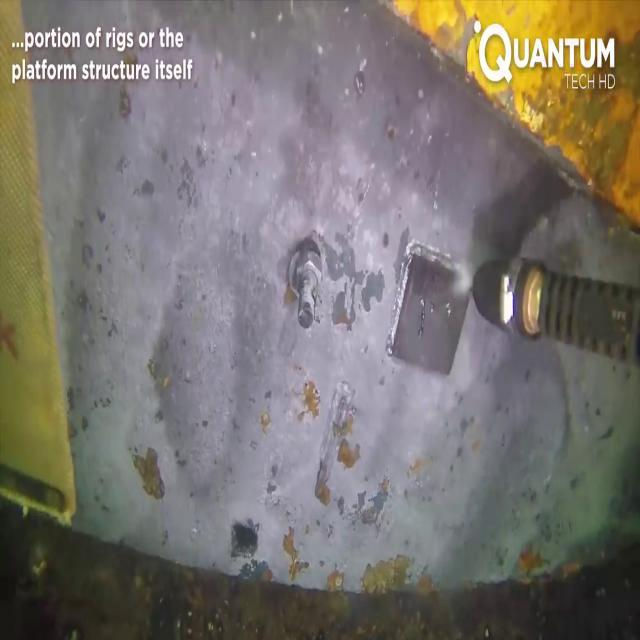Good Weld: (410, 242, 470, 276), (388, 250, 408, 338)
